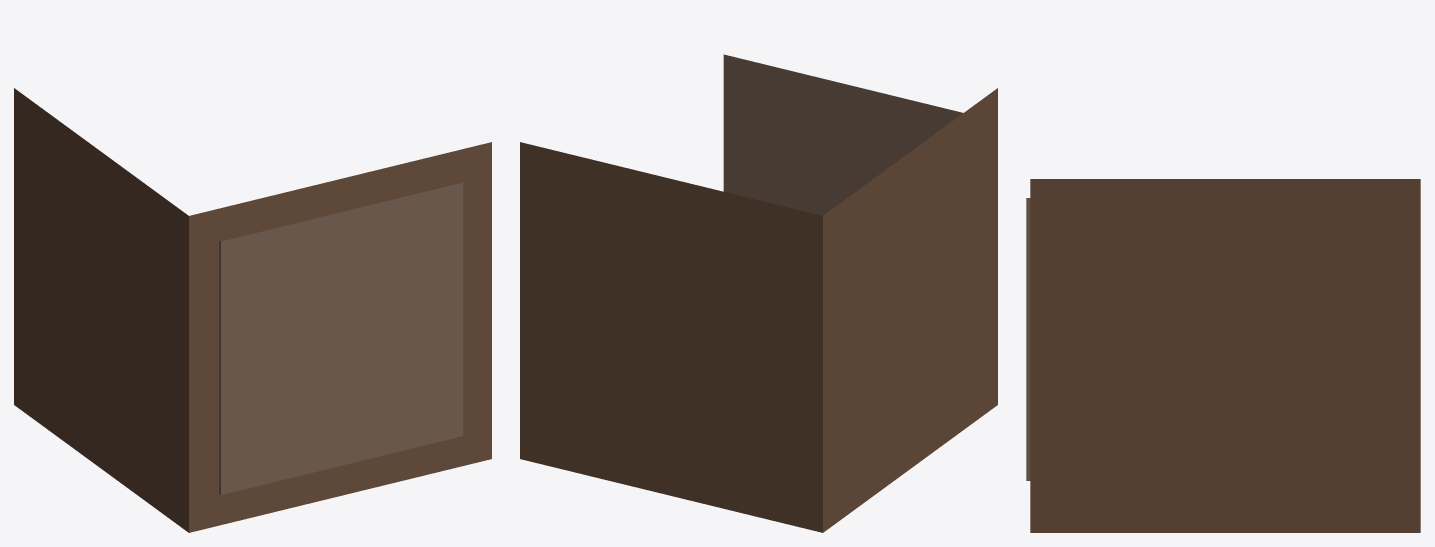
File: Wall-brown.glb
3 views of the same model, side by side, from view 1: azimuth 30°, elevation 25°; view 2: azimuth 150°, elevation 25°; view 3: azimuth 270°, elevation 25° (orthographic). The views are drawn at different scales.
Parts seen in each view (by area): view 1: Wall; view 2: Wall; view 3: Wall.
Boxes of the visible parts, box(x1,y1,x2,y2) form: Wall: box(14, 88, 491, 532); Wall: box(520, 54, 997, 532); Wall: box(1026, 179, 1420, 532).
Bounding box in the file's own units: 1 × 1 × 1.01.
